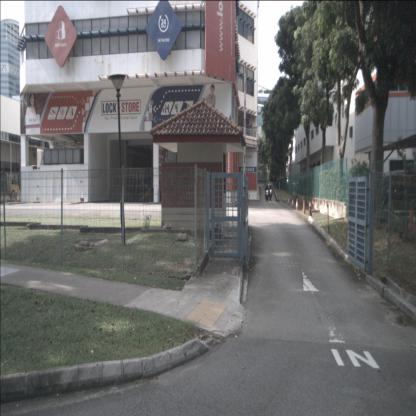cone: (307, 202, 313, 222), (301, 200, 306, 214), (295, 198, 299, 212), (286, 196, 290, 208), (291, 196, 295, 208), (284, 195, 286, 204)
